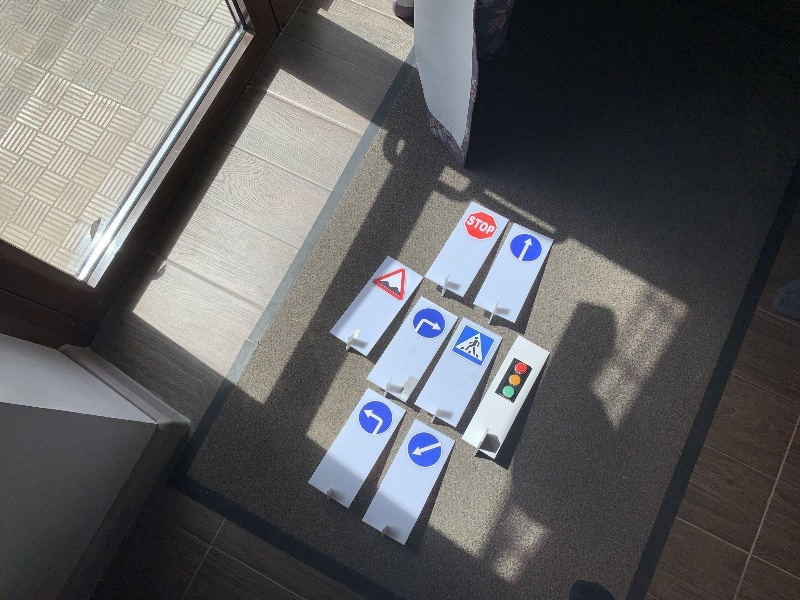Left: (357, 400, 394, 434)
Nerov: (374, 268, 407, 299)
Right: (412, 308, 446, 340)
Stop: (464, 210, 496, 237)
forw: (509, 234, 543, 262)
pesh: (453, 327, 494, 368)
prep: (407, 432, 441, 468)
